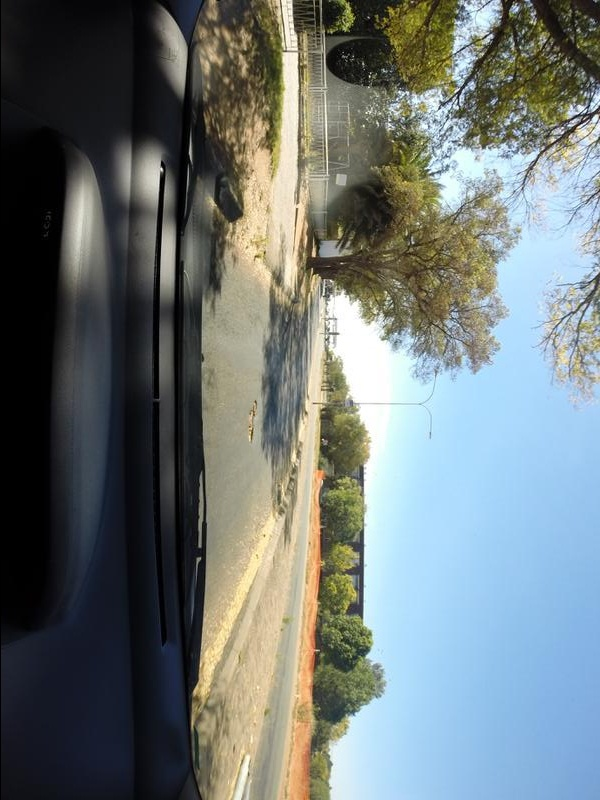pothole: (242, 398, 262, 453)
